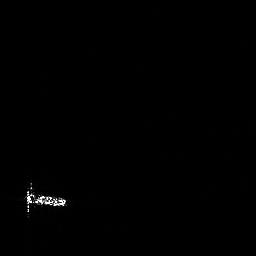ship: (21, 179, 72, 218)
